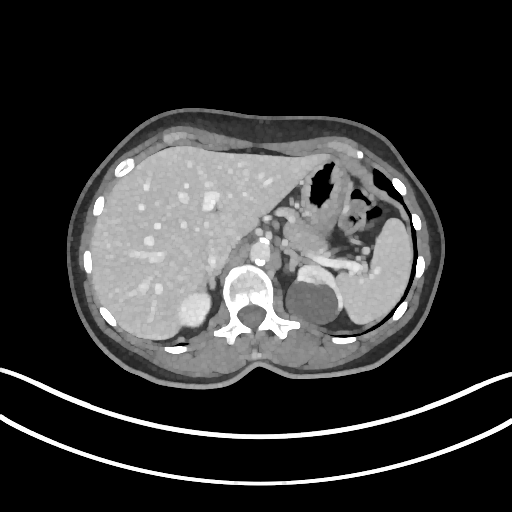Lesion: (281, 276, 343, 327)
